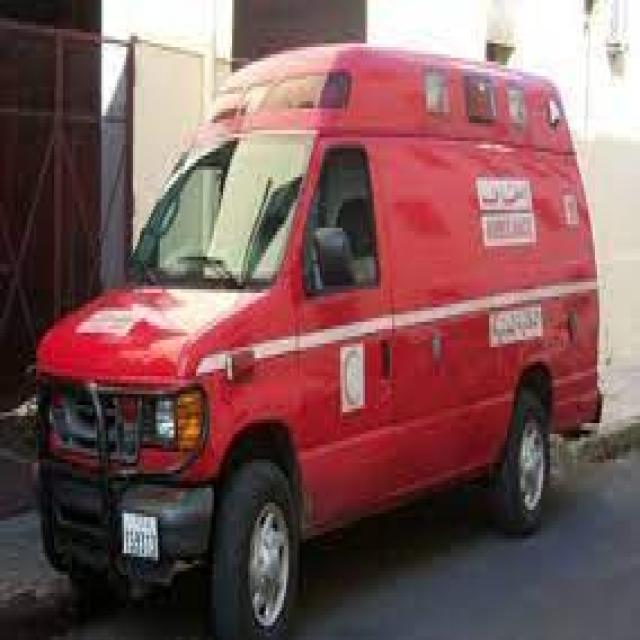ambulance: (34, 40, 600, 626)
